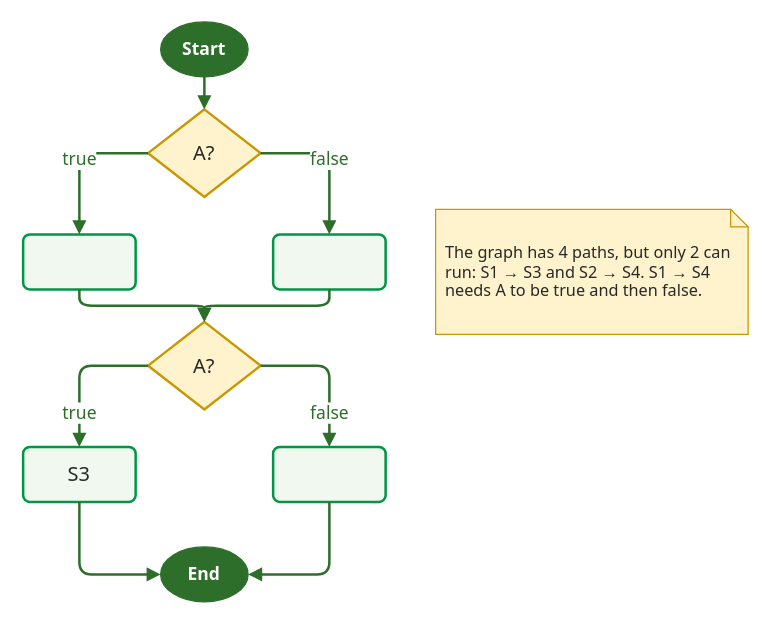
Image size: 770x624. Some labels were removed from this diagram. Each missing label, with the centre of its shape:
"S1" belongs at point 78,261.
"S2" belongs at point 328,261.
"S4" belongs at point 328,473.
